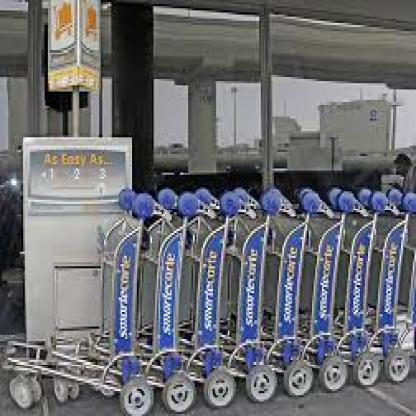airport-trolley: (0, 186, 152, 414), (98, 190, 191, 414), (144, 190, 236, 416), (289, 188, 366, 396), (209, 186, 281, 408), (322, 189, 397, 394), (259, 187, 321, 401), (365, 188, 416, 391)
